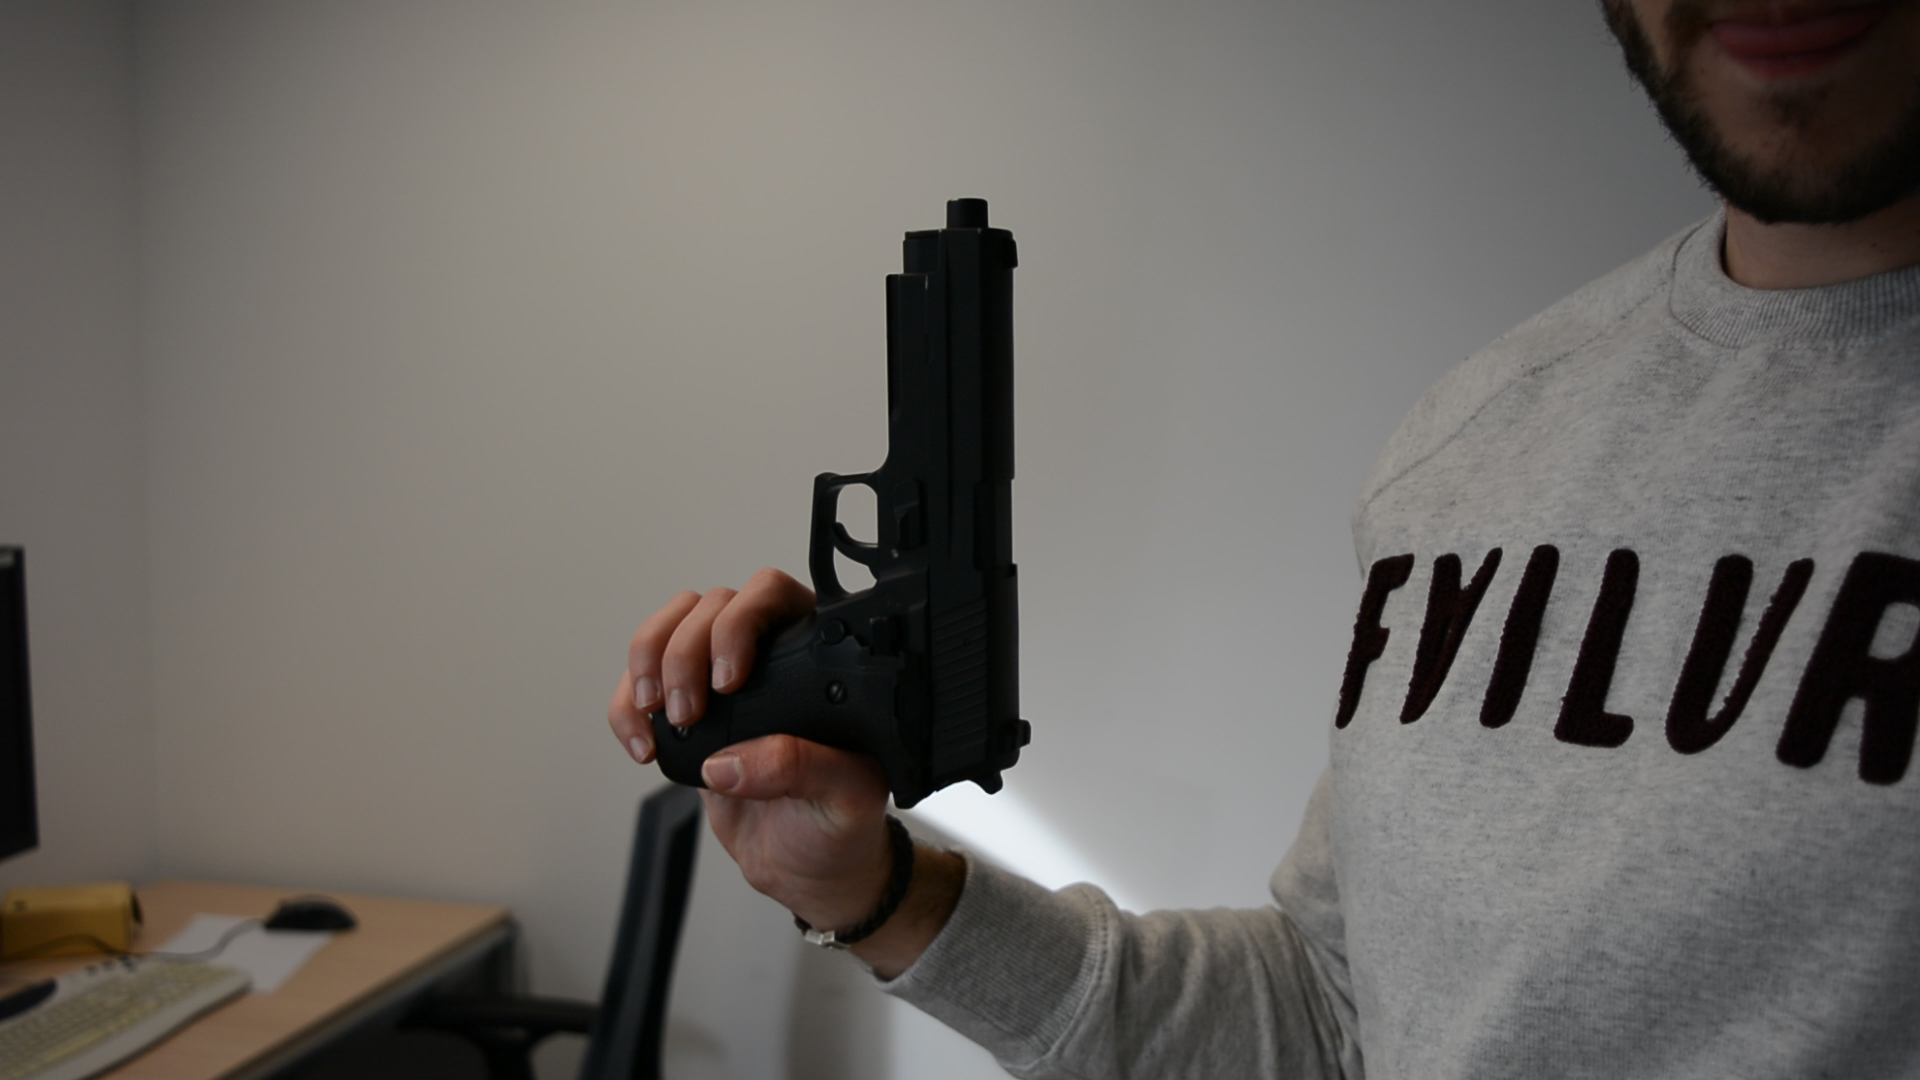pistol: (647, 194, 1034, 814)
